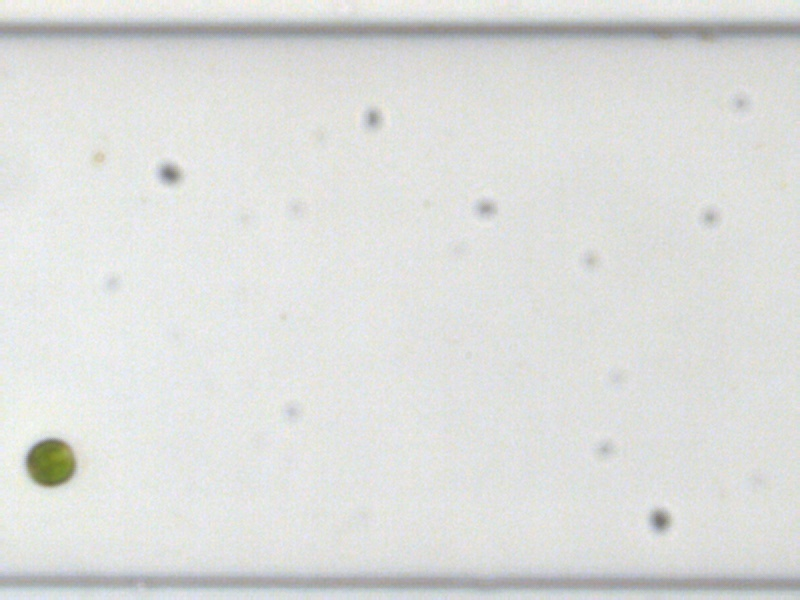Platymonas: (22, 436, 74, 489)
